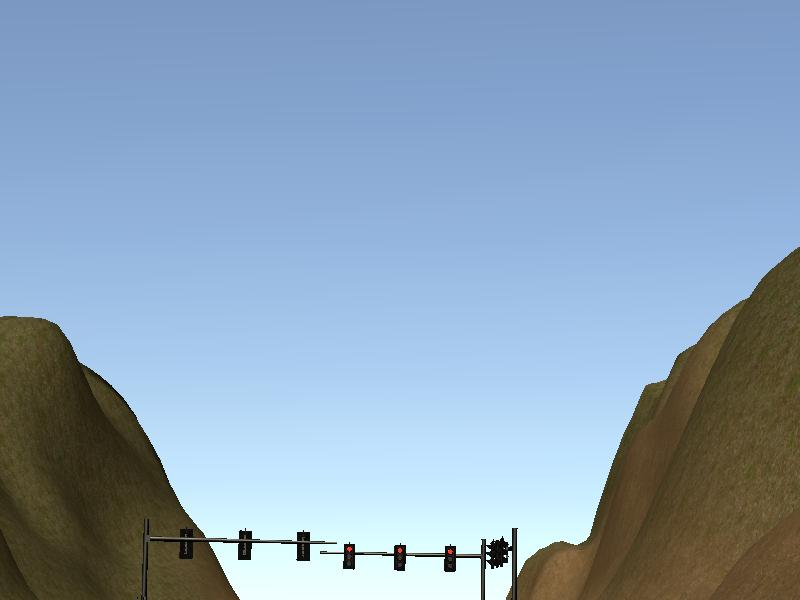Red: (444, 543, 456, 572), (343, 540, 355, 567), (394, 544, 406, 569)
